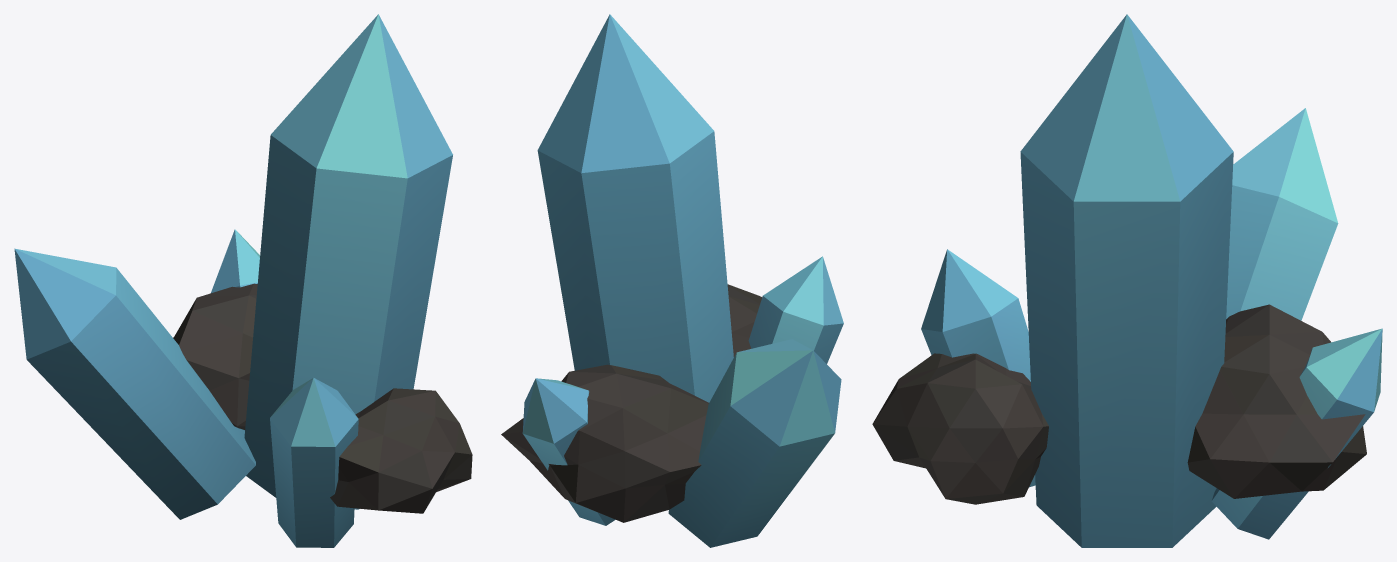
The model's file is crystal_star_c.glb.
3 renders of one model, left to right at view 1: azimuth 30°, elevation 25°; view 2: azimuth 150°, elevation 25°; view 3: azimuth 270°, elevation 25°, orthographic. The views are drawn at different scales.
Parts seen in each view (by area): view 1: crystal_star_c_crystal, crystal_star_c_solid; view 2: crystal_star_c_crystal, crystal_star_c_solid; view 3: crystal_star_c_crystal, crystal_star_c_solid.
Part boxes in pixels (x1,y1,x2,y2): crystal_star_c_crystal: [14, 14, 452, 547]; crystal_star_c_solid: [173, 283, 472, 513]; crystal_star_c_crystal: [522, 14, 843, 547]; crystal_star_c_solid: [501, 284, 762, 522]; crystal_star_c_crystal: [921, 14, 1382, 547]; crystal_star_c_solid: [872, 304, 1366, 504].
Bounding box in the file's own units: 0.7879 × 1.05 × 0.8726.
